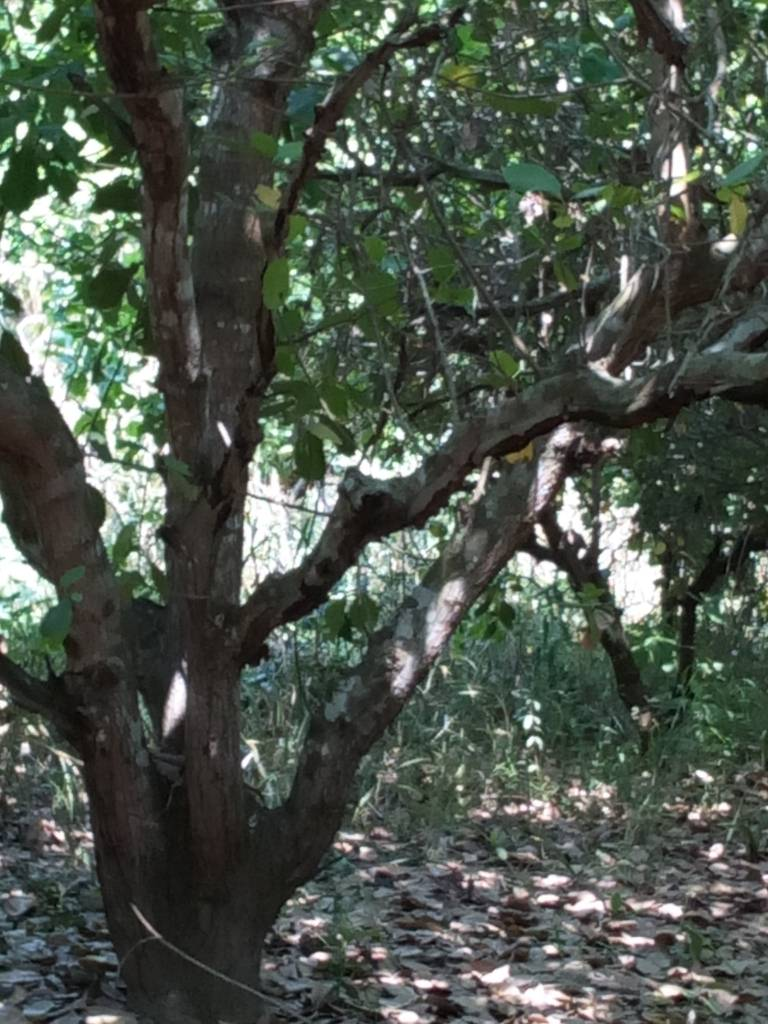Termites: (182, 638, 247, 913), (86, 728, 161, 925), (296, 503, 393, 608), (413, 447, 468, 528)
